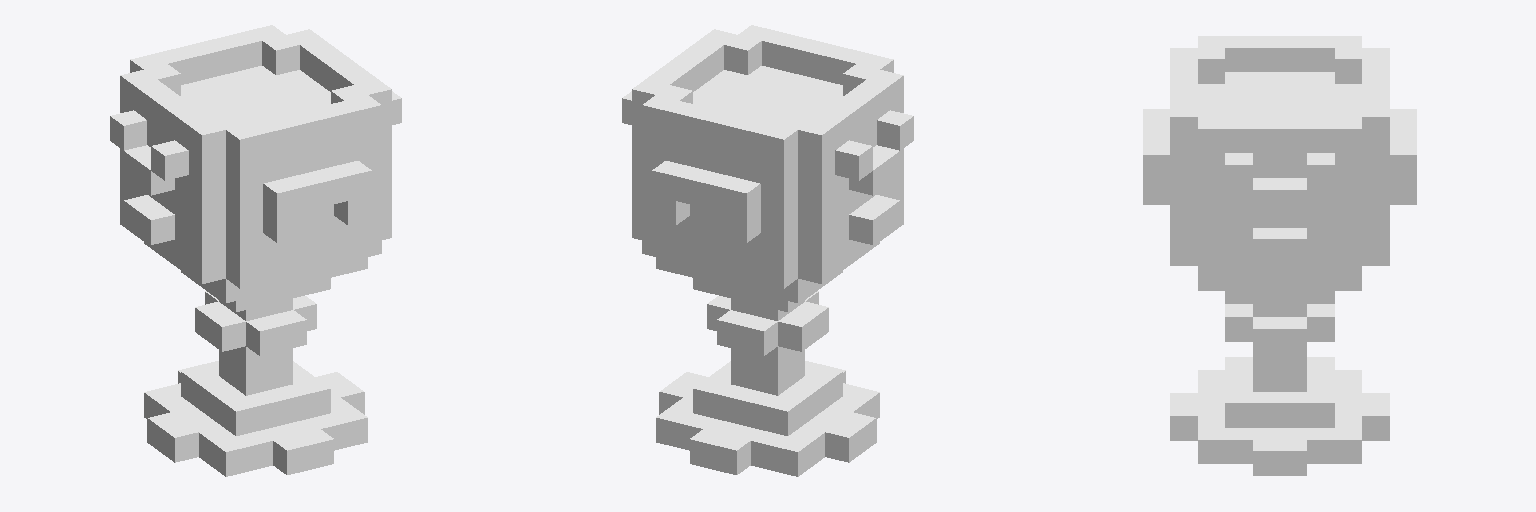
The model's file is Desert-55-GoldCup.obj.
3 views of the same model, side by side, from view 1: azimuth 30°, elevation 25°; view 2: azimuth 150°, elevation 25°; view 3: azimuth 270°, elevation 25° (orthographic).
Visible parts, largest first — view 1: GoldCup; view 2: GoldCup; view 3: GoldCup.
Boxes of the visible parts, <box> form: GoldCup: <box>110,25,401,476</box>; GoldCup: <box>622,25,913,476</box>; GoldCup: <box>1143,36,1416,475</box>.
Size of the model in its own units: 1 by 1.4 by 1.